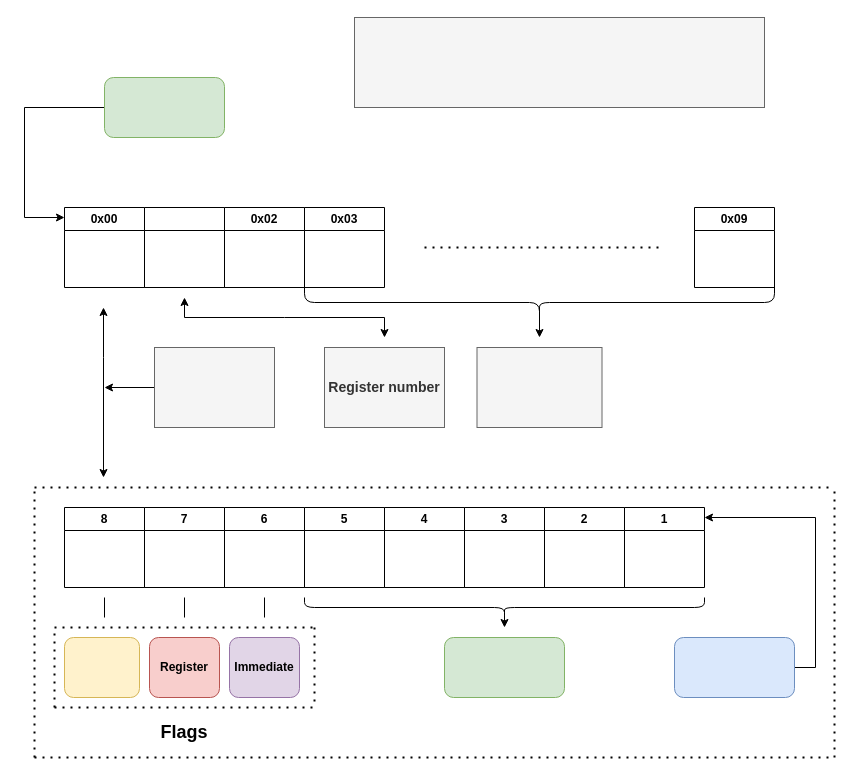
The diagram is 854 pixels wide and 777 high, and some of its shapes have lost their labels. The shapes that lost their labels are listed below. From the top down, each one's centre as x and y in pixels, then its label:
At [559,62]: "Binary code diagram".
At [164,107]: "Address".
At [184,247]: "0x01".
At [214,387]: "Instruction code and flags".
At [539,387]: "Argument value".
At [102,667]: "RAM".
At [504,667]: "Instruction".
At [734,667]: "Bit number".
